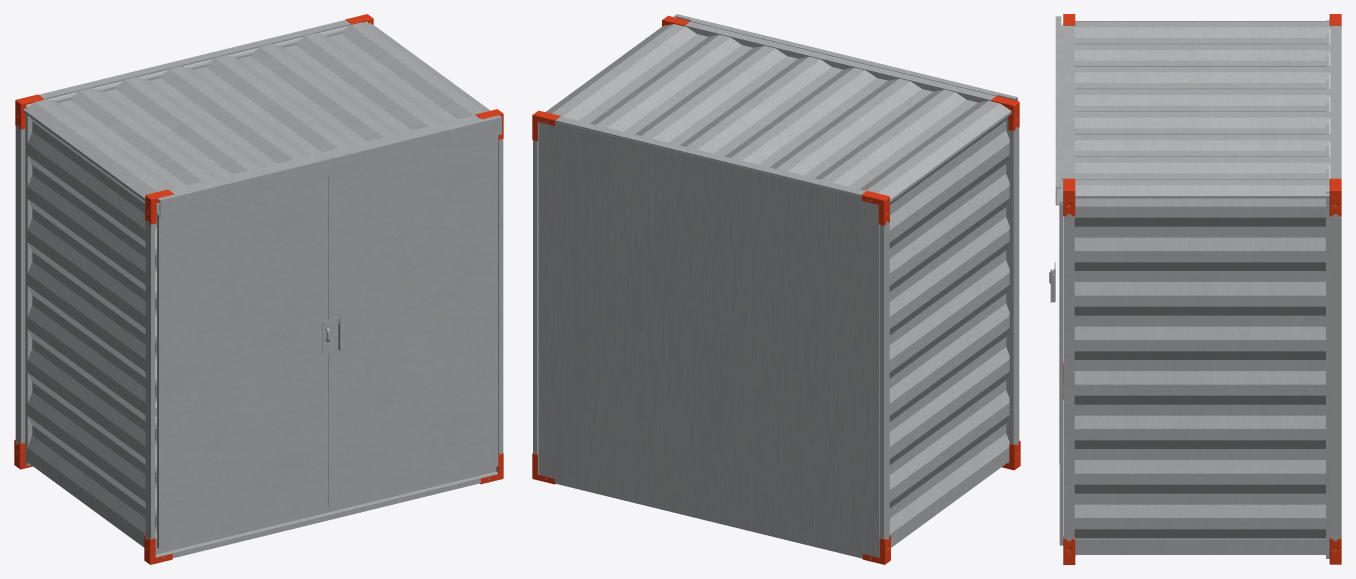
The model's file is 3M_Interactive.glb.
The picture shows the model from 3 angles, left to right: view 1: azimuth 30°, elevation 25°; view 2: azimuth 150°, elevation 25°; view 3: azimuth 270°, elevation 25°; orthographic projection. The views are drawn at different scales.
Visible parts, largest first — view 1: FrontFace, Roof, LeftWall, Back, Floor; view 2: Back, Roof, LeftWall, FrontFace, Floor; view 3: RightWall, Roof, FrontFace, Back, Floor.
Boxes of the visible parts, x1,y1,x2,y2 form: FrontFace: (144,109,503,564); Roof: (23,22,490,200); LeftWall: (25,117,156,533); Back: (14,14,373,469); Floor: (25,416,156,547); Back: (532,110,890,564); Roof: (545,24,1011,202); LeftWall: (889,116,1009,534); FrontFace: (662,14,1020,470); Floor: (890,447,1008,547); RightWall: (1074,198,1325,537); Roof: (1074,21,1330,198); FrontFace: (1049,14,1075,564); Back: (1326,14,1341,564); Floor: (1075,538,1325,554).
Bounding box in the file's own units: 23.17 × 22.88 × 16.17.
3 materials, 1 textured.
